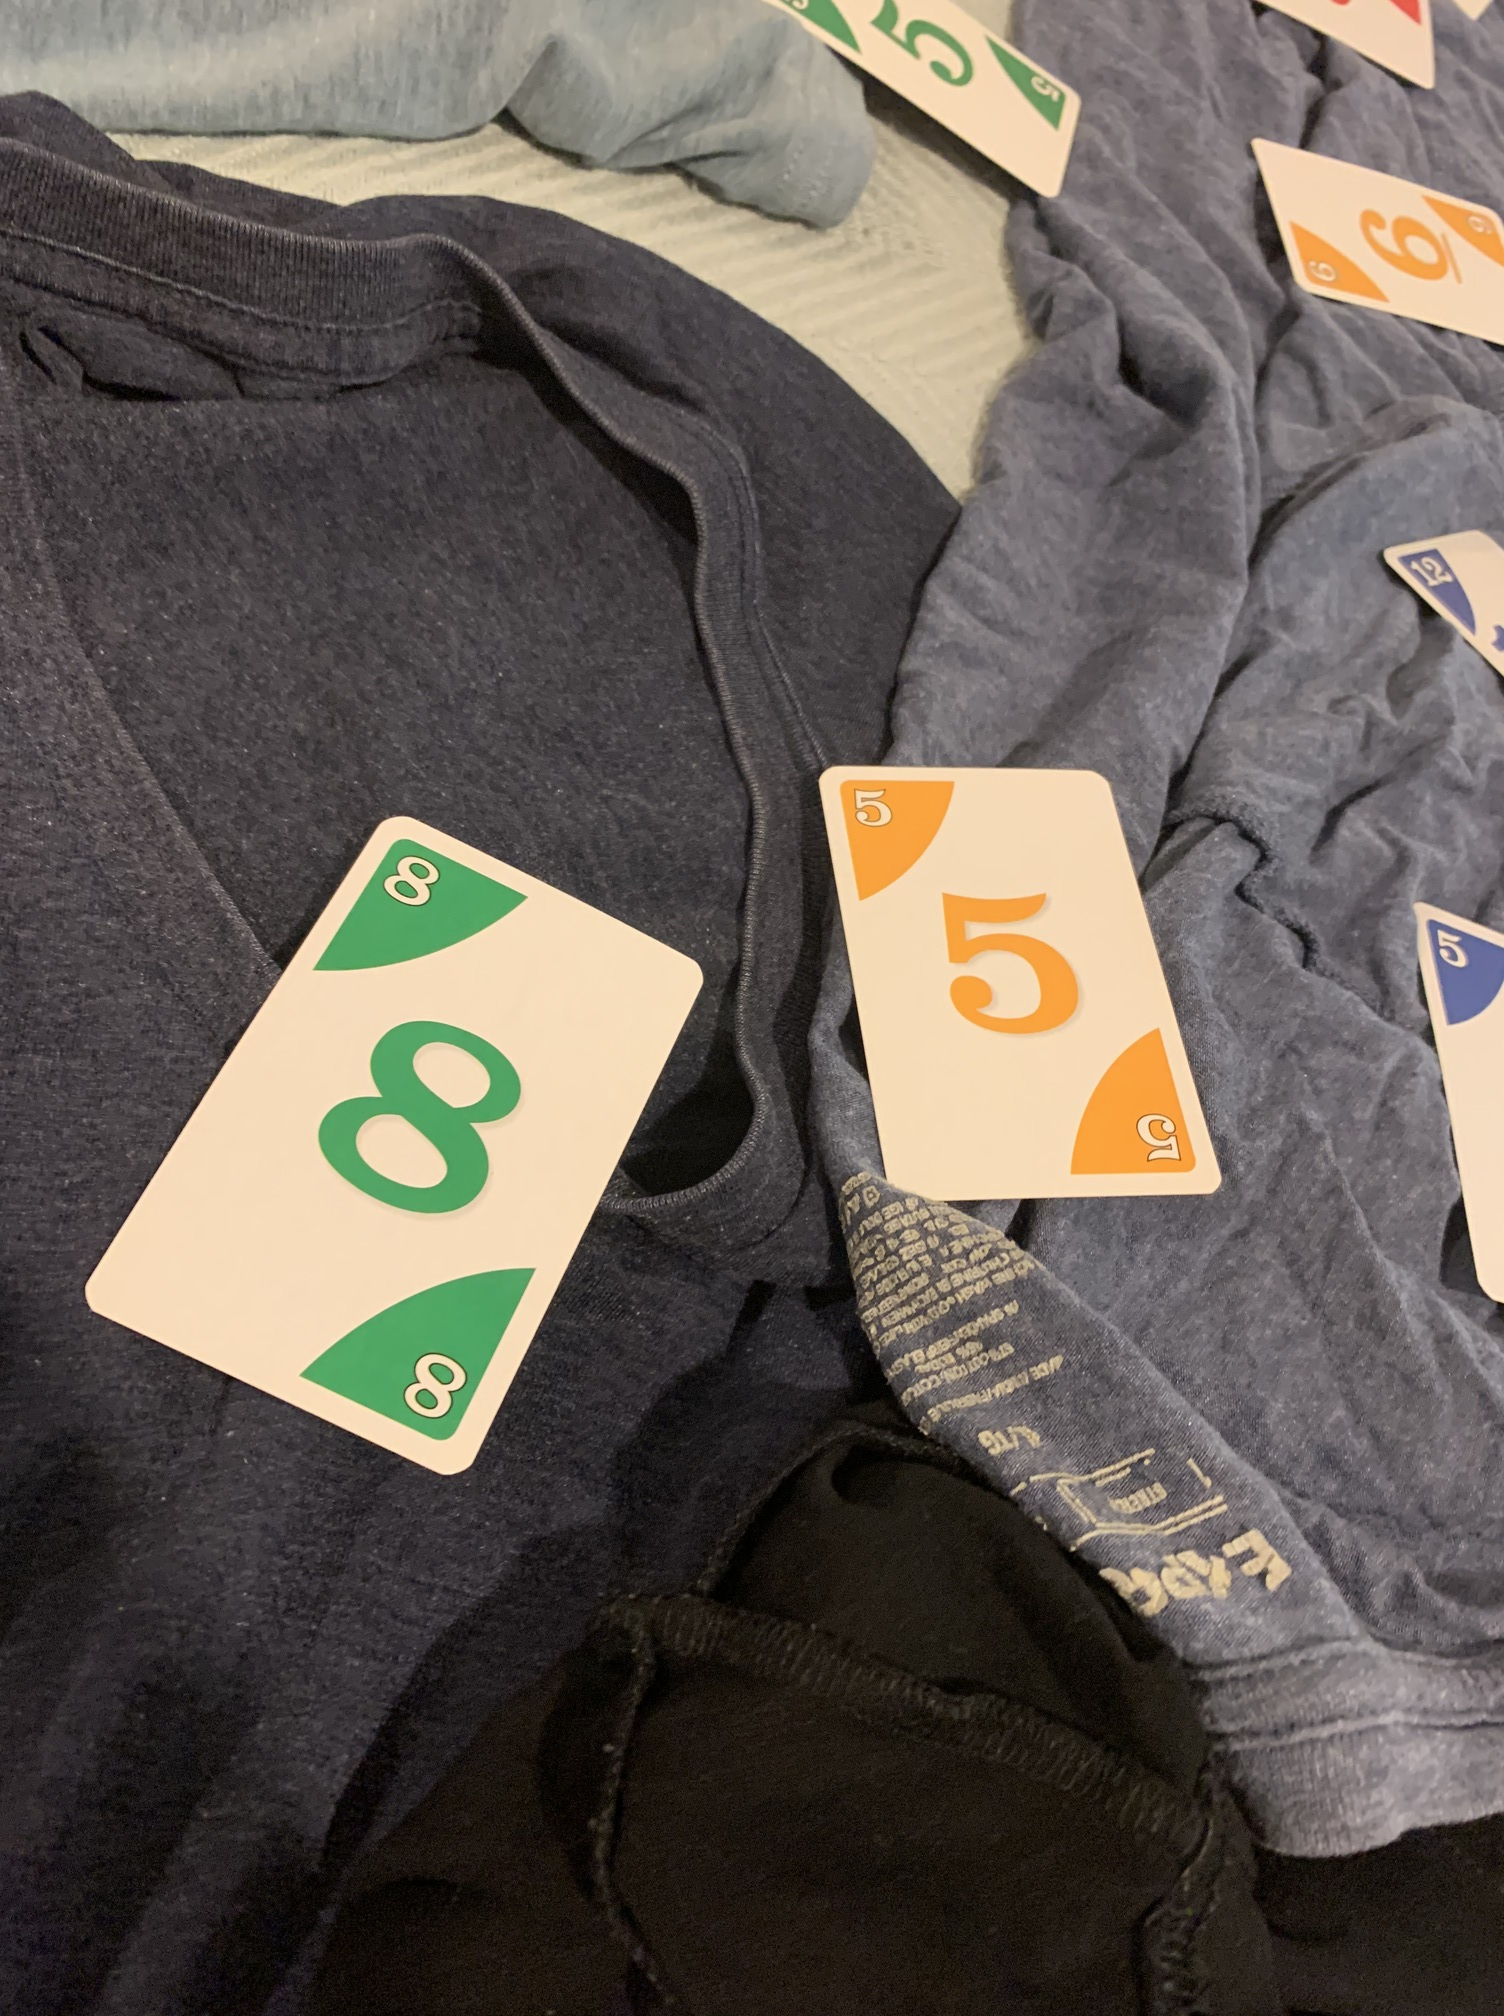eight: (74, 807, 709, 1480)
five: (803, 750, 1228, 1212)
six: (1232, 134, 1504, 355)
